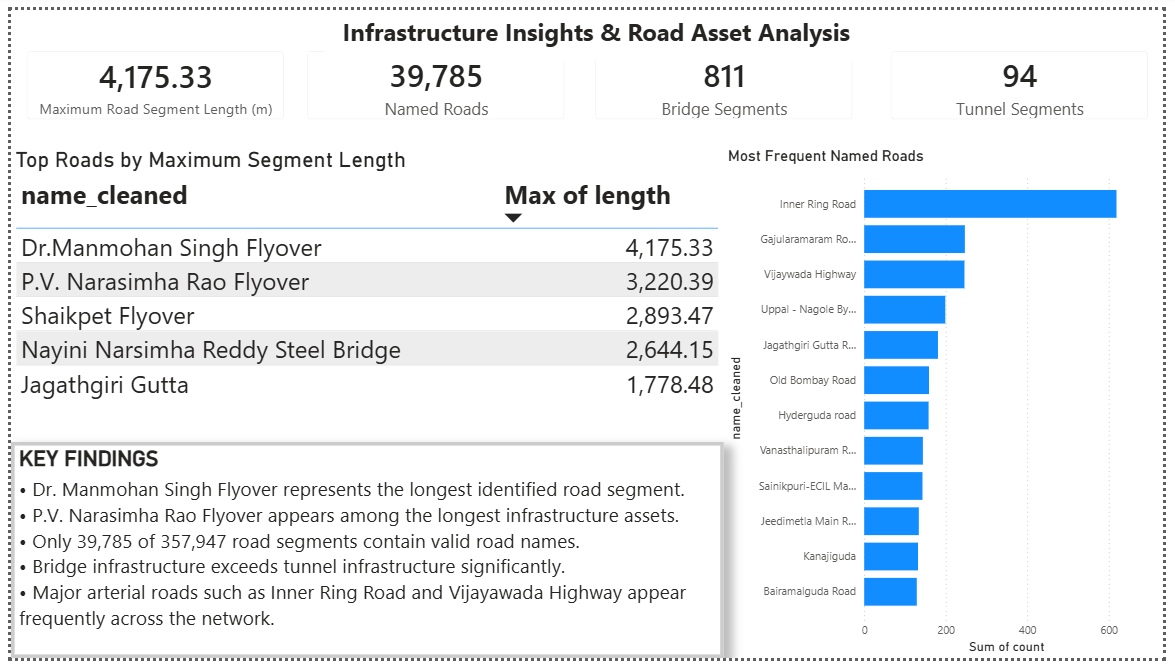

The dashboard page shown, as its layout file describes it:
{"tool":"powerbi","page":{"name":"Infrastructure Insights","canvas":[1280,720],"ordinal":2},"visuals":[{"type":"cardVisual","fields":{"Data":["longest_roads.Longest Road Segment"]},"box":[0,28,320,110],"z":0},{"type":"cardVisual","fields":{"Data":["top_road_names.Named Roads"]},"box":[312,28,320,110],"z":1},{"type":"cardVisual","fields":{"Data":["bridge_analysis.Bridge Segments"]},"box":[632,28,320,110],"z":2},{"type":"cardVisual","fields":{"Data":["tunnel_analysis.Tunnel Segments"]},"box":[960,28,320,110],"z":4},{"type":"tableEx","title":"Top Roads by Maximum Segment Length","fields":{"Values":["longest_roads.name_cleaned","Max(longest_roads.length)"]},"box":[0,152,792,328],"z":5},{"type":"clusteredBarChart","title":"Most Frequent Named Roads","fields":{"Category":["top_road_names.name_cleaned"],"Y":["Sum(top_road_names.count)"]},"box":[792,152,488,568],"z":6},{"type":"textbox","title":"KEY FINDINGS","box":[0,480,792,240],"z":7},{"type":"textbox","box":[348,0,604,56],"z":8}]}

Visuals, with their boxes in screenshot pixels (x1, y1, x2, y2), scaled from the page's 1280x720 canvas onto the 1175x668 screenshot:
cardVisual - longest_roads.Longest Road Segment: 0,26,294,128
cardVisual - top_road_names.Named Roads: 286,26,580,128
cardVisual - bridge_analysis.Bridge Segments: 580,26,874,128
cardVisual - tunnel_analysis.Tunnel Segments: 881,26,1174,128
"Top Roads by Maximum Segment Length" tableEx: 0,141,727,445
"Most Frequent Named Roads" clusteredBarChart: 727,141,1174,667
"KEY FINDINGS" textbox: 0,445,727,667
textbox: 319,0,874,52
